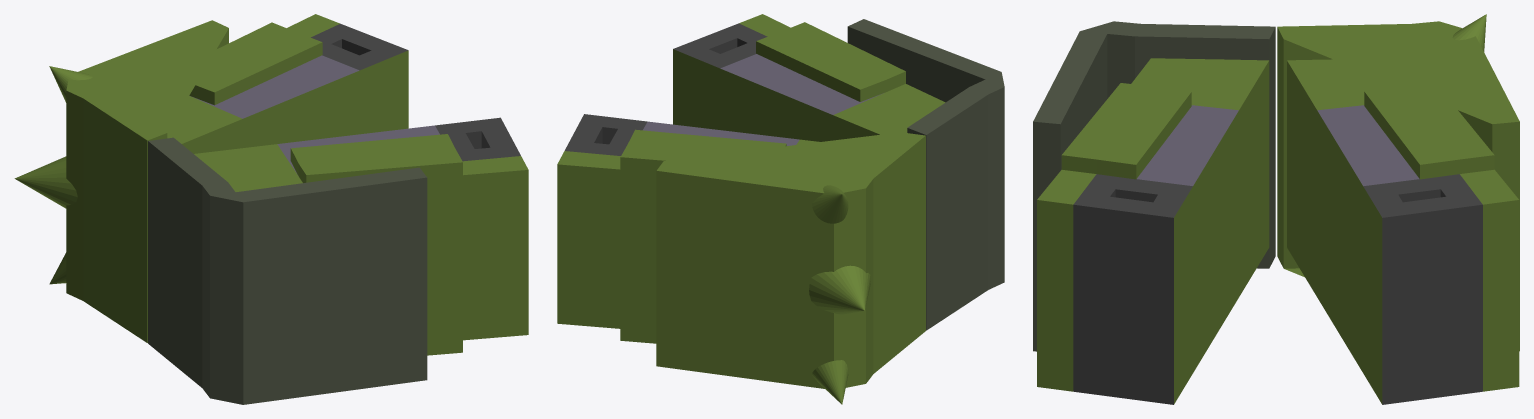
File: Hijack_arm.glb
3 renders of one model, left to right at view 1: azimuth 30°, elevation 25°; view 2: azimuth 150°, elevation 25°; view 3: azimuth 270°, elevation 25°, orthographic. The views are drawn at different scales.
Visible parts, largest first — view 1: Cube.001; view 2: Cube.001; view 3: Cube.001.
Boxes of the visible parts, x1,y1,x2,y2 form: Cube.001: [14, 14, 528, 404]; Cube.001: [557, 14, 1004, 404]; Cube.001: [1033, 14, 1519, 404].
Size of the model in its own units: 0.8935 by 0.5442 by 0.9708.
